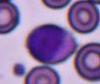L: (26, 24, 76, 64)
